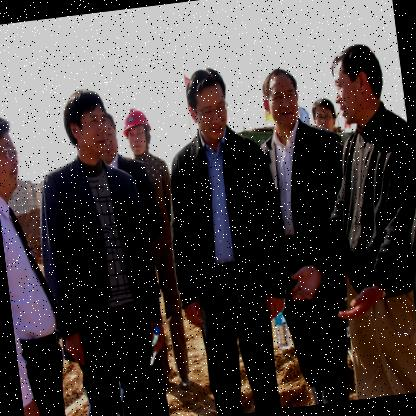capacete: (119, 103, 156, 162)
sem_capacete: (324, 38, 389, 126), (180, 62, 235, 149), (59, 84, 113, 164), (255, 62, 303, 132), (0, 109, 27, 205), (307, 94, 339, 136), (100, 112, 124, 166)
sem_colete_refletivo: (155, 123, 296, 327), (28, 151, 166, 348), (255, 116, 365, 314), (319, 111, 415, 308), (0, 186, 67, 356), (130, 143, 184, 260)
